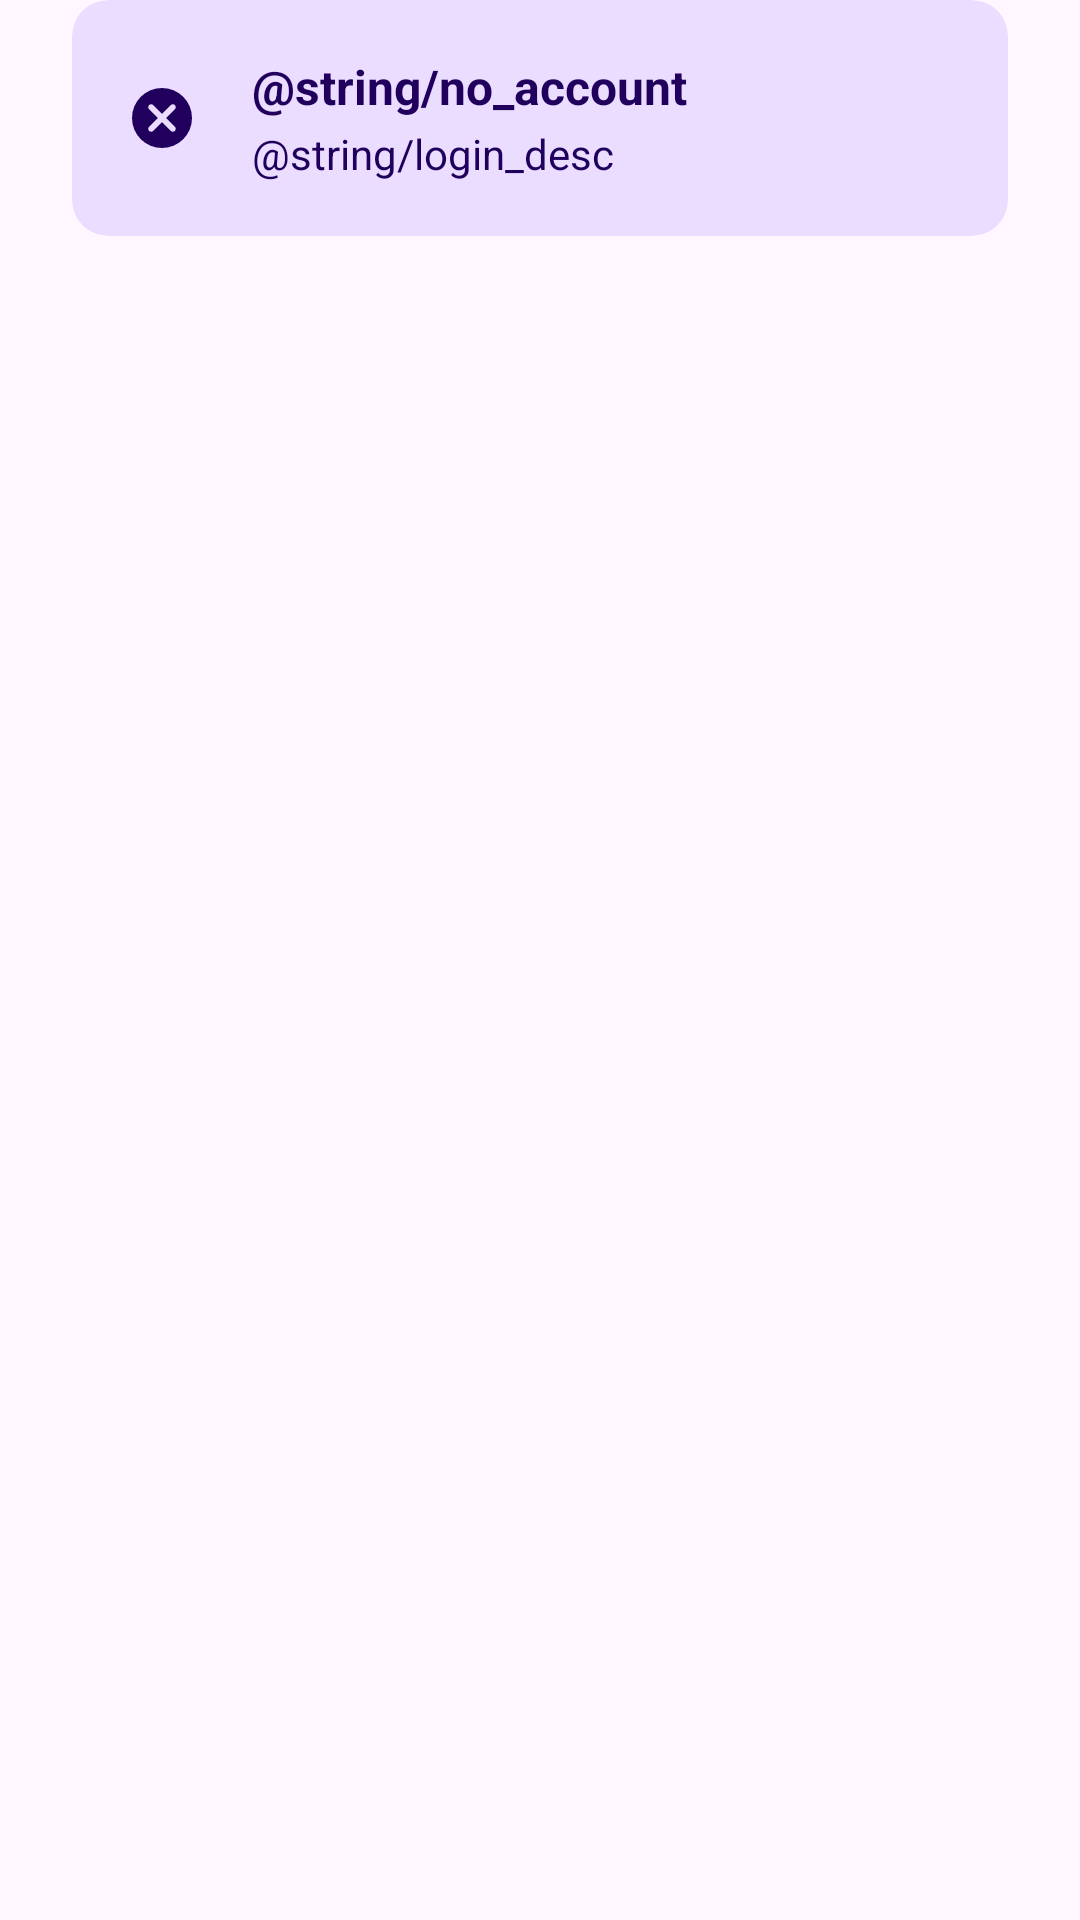

Point at icon controls on the screen. Image size 1080×1920, points as (x,y).
cancel: (162,118)
